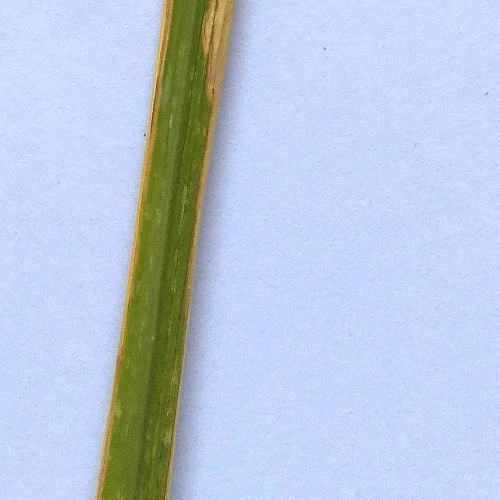Busuk Leher: (187, 108, 218, 290), (198, 1, 245, 97), (144, 79, 164, 156), (134, 156, 154, 233), (154, 1, 174, 77)
